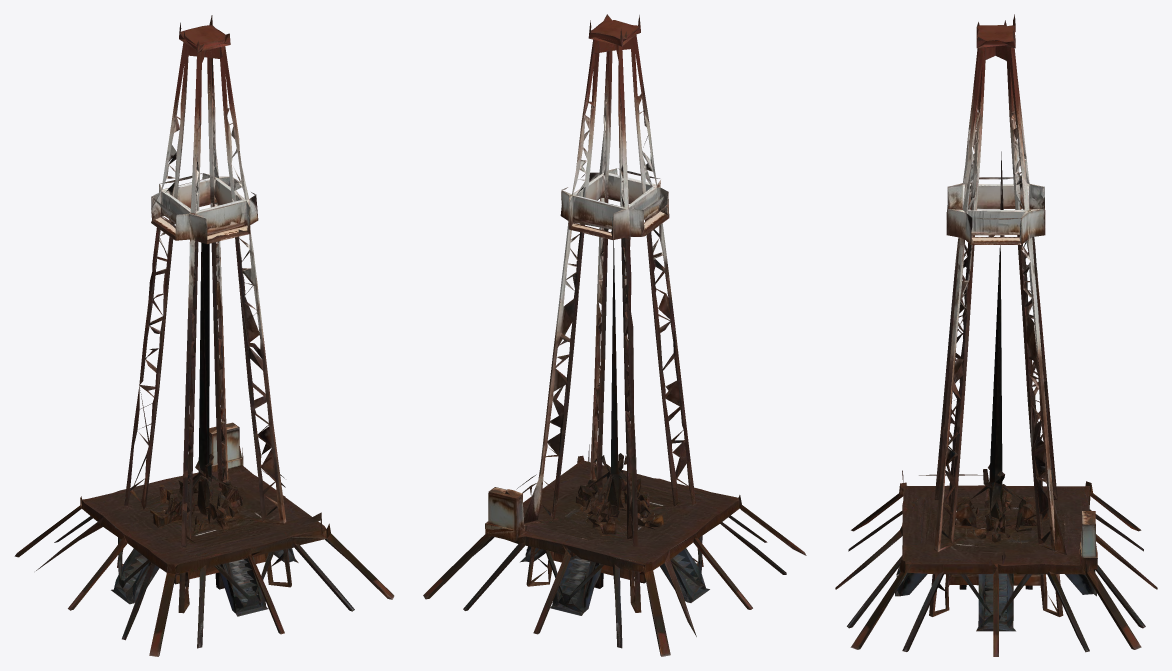
The model's file is volcano_hero_derrick.glb.
3 renders of one model, left to right at view 1: azimuth 30°, elevation 25°; view 2: azimuth 150°, elevation 25°; view 3: azimuth 270°, elevation 25°, orthographic. The views are drawn at different scales.
Bounding box in the file's own units: 0.9765 × 1.9 × 0.9776.
1 material, 1 textured.
